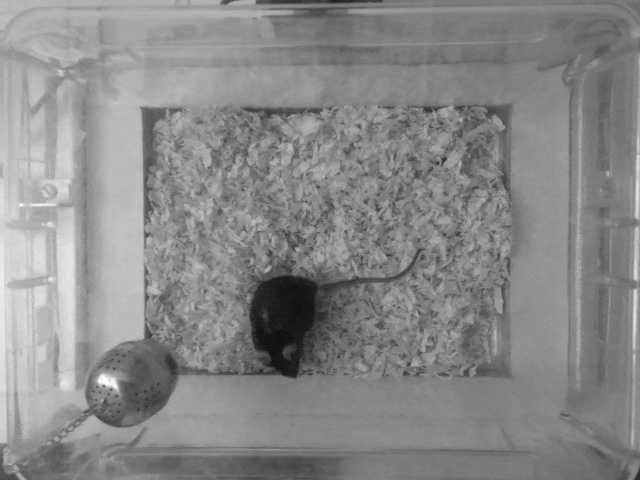mice: (246, 245, 426, 380)
